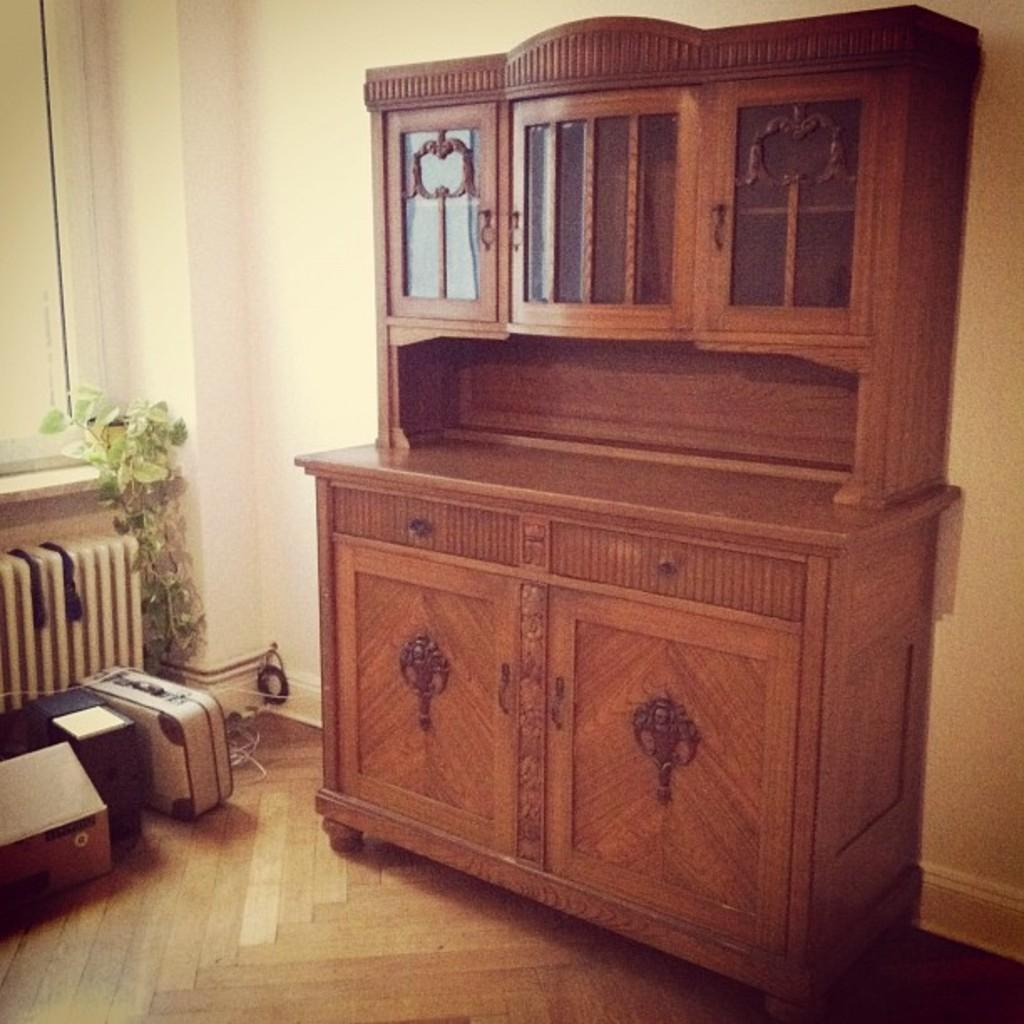cabinet_door: (550, 608, 784, 894), (342, 560, 524, 814), (514, 101, 682, 319), (710, 102, 872, 314), (552, 529, 806, 620), (382, 115, 500, 310), (348, 495, 514, 566)
handle: (543, 674, 569, 742), (488, 658, 515, 716), (651, 550, 680, 586), (713, 212, 733, 252), (478, 202, 496, 245), (509, 200, 525, 248), (402, 516, 434, 539)
